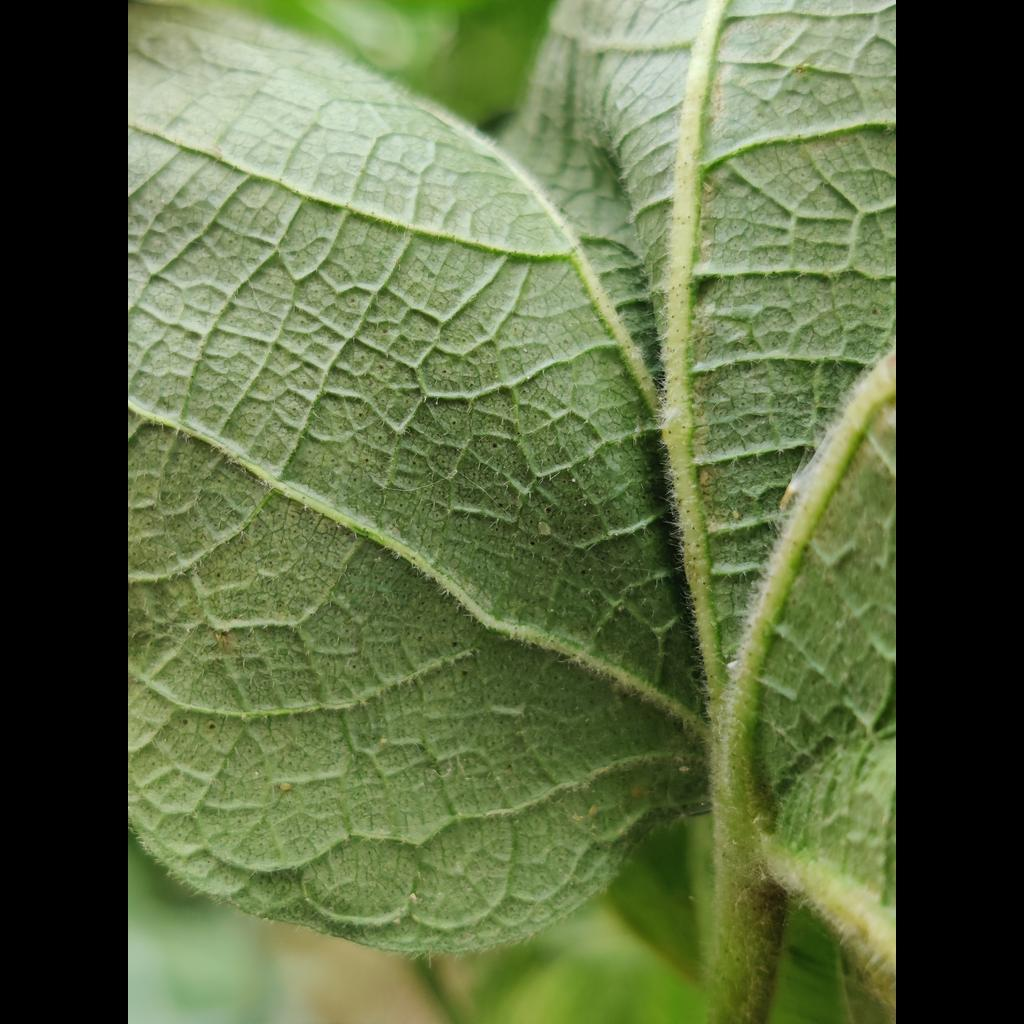nymph: (537, 522, 553, 535), (726, 660, 739, 669), (702, 182, 712, 193), (280, 782, 291, 790), (678, 766, 690, 773), (732, 510, 739, 520)
